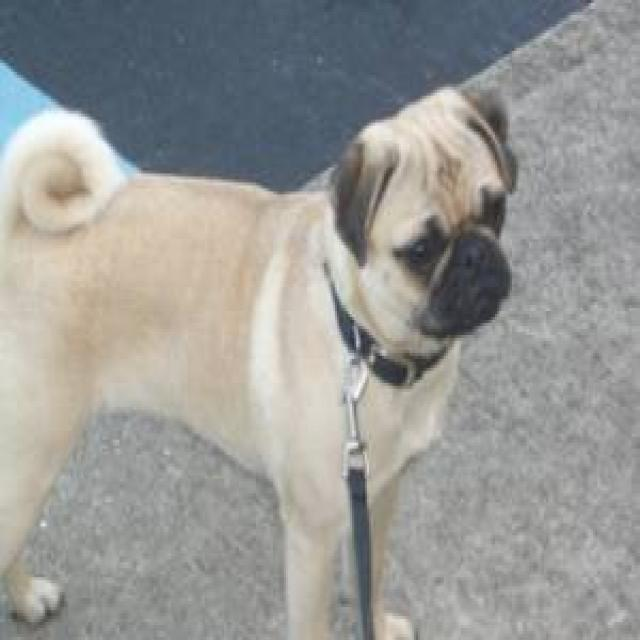dog-pug: (2, 78, 525, 634)
